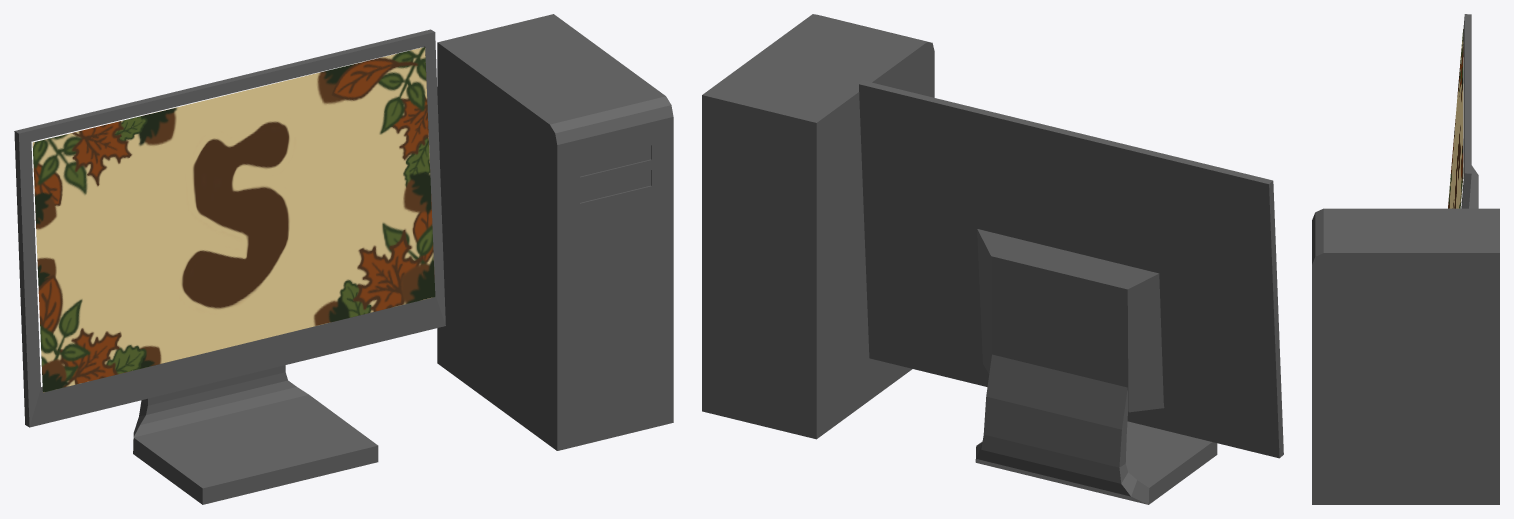
Rendered from computer2.gltf.
The picture shows the model from 3 angles, left to right: view 1: azimuth 30°, elevation 25°; view 2: azimuth 150°, elevation 25°; view 3: azimuth 270°, elevation 25°; orthographic projection. The views are drawn at different scales.
Parts seen in each view (by area): view 1: computer.001, Fläche.001; view 2: computer.001; view 3: computer.001, Fläche.001.
Part boxes in pixels (bbox=[...]): computer.001: bbox=[14, 14, 673, 504]; Fläche.001: bbox=[32, 47, 435, 392]; computer.001: bbox=[702, 14, 1283, 504]; computer.001: bbox=[1312, 14, 1499, 504]; Fläche.001: bbox=[1448, 29, 1463, 208].
Bounding box in the file's own units: 5.37 × 3.26 × 2.
3 materials, 1 textured.
